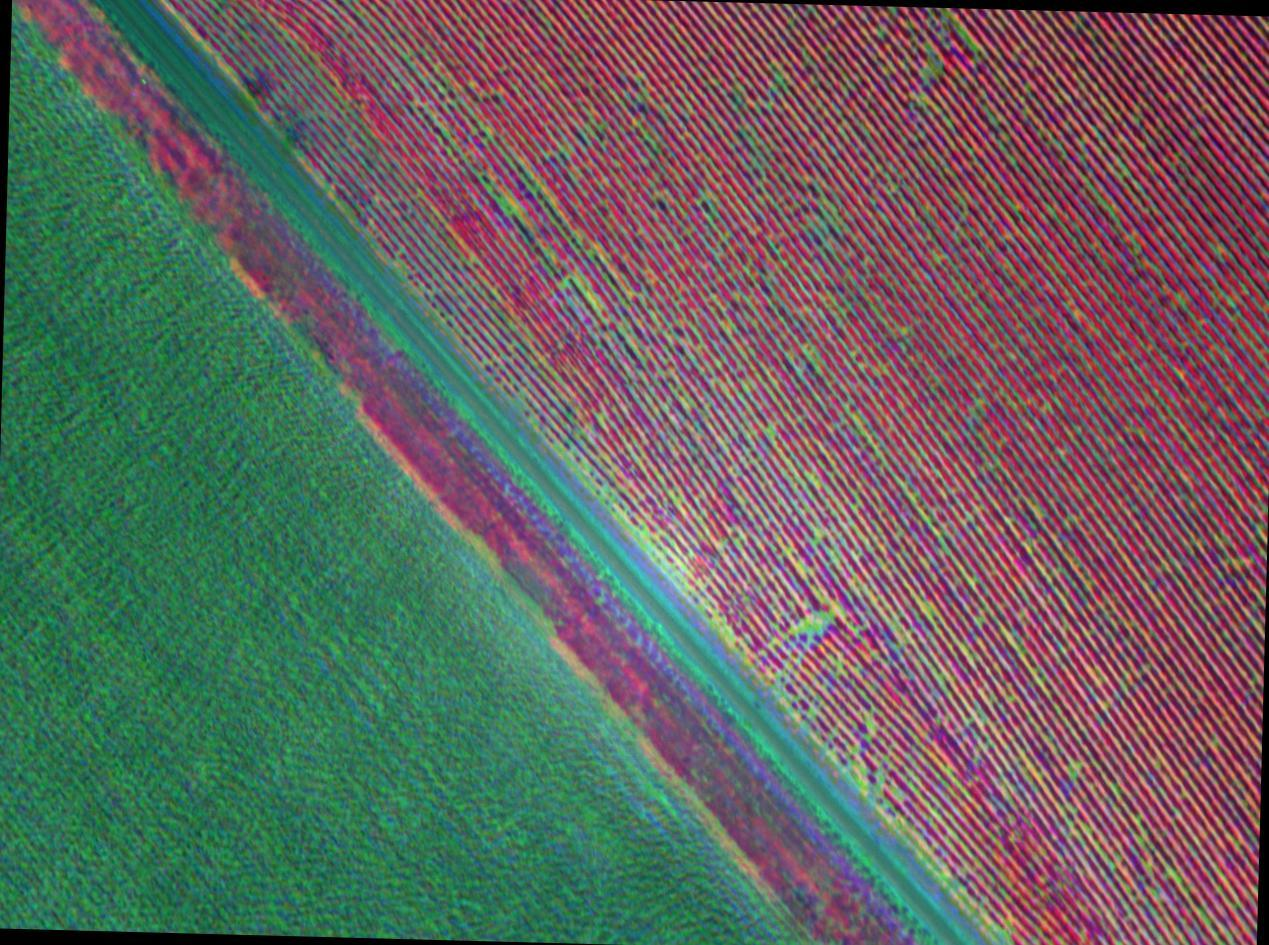dc: (1034, 507, 1044, 517), (803, 623, 814, 632), (815, 529, 825, 537), (500, 200, 509, 208)
